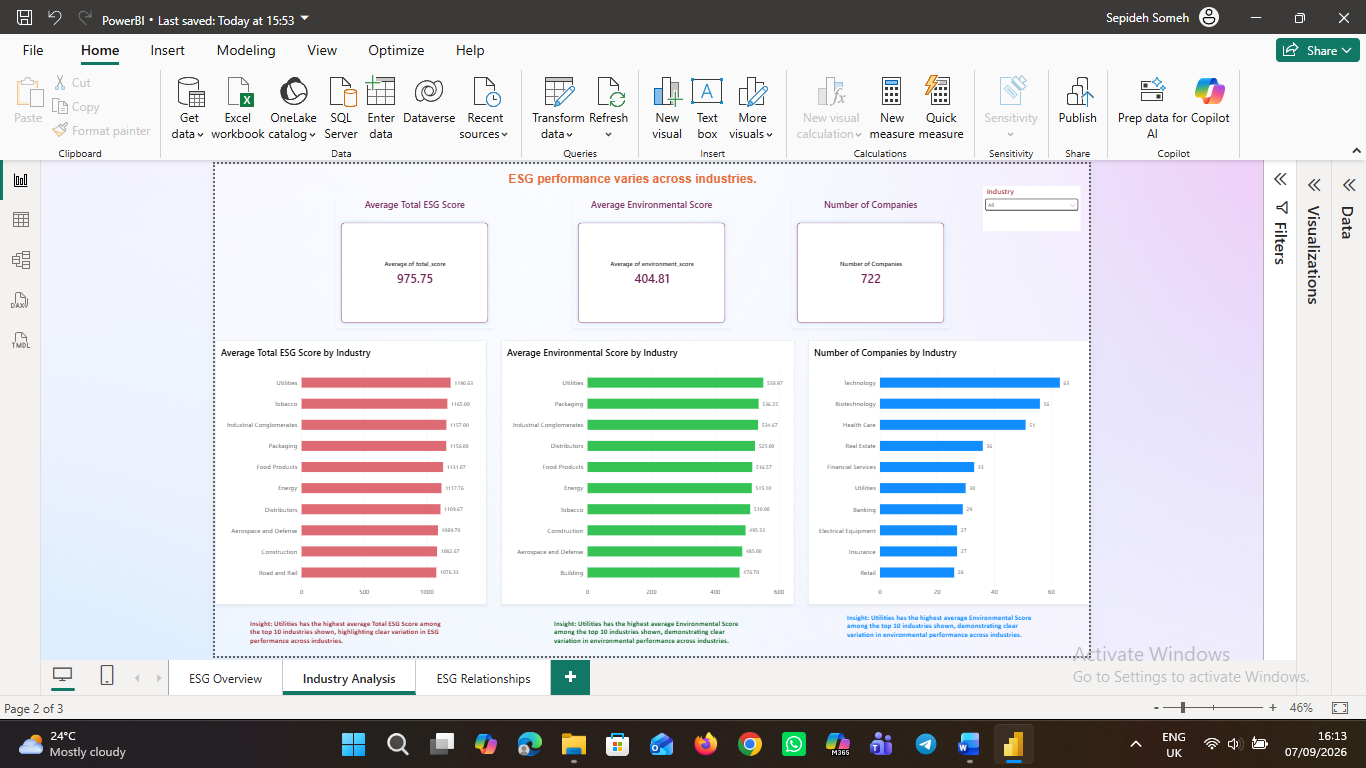

The dashboard page shown, as its layout file describes it:
{"tool":"powerbi","page":{"name":"Industry Analysis","canvas":[1920,1080],"ordinal":1},"visuals":[{"type":"textbox","box":[628.6,17.3,576.7,58.3],"z":0},{"type":"clusteredBarChart","title":"Average Total ESG Score by Industry","fields":{"Category":["esg_cleaned.industry"],"Y":["Avg(esg_cleaned.total_score)"]},"box":[0,386.6,596.2,581],"z":1},{"type":"textbox","box":[77.8,997.9,438.5,82.1],"z":2},{"type":"clusteredBarChart","title":"Average Environmental Score by Industry","fields":{"Category":["esg_cleaned.industry"],"Y":["Avg(esg_cleaned.environment_score)"]},"box":[628.6,386.6,643.7,581],"z":3},{"type":"textbox","box":[745.2,997.9,408.2,75.6],"z":4},{"type":"clusteredBarChart","title":"Number of Companies by Industry","fields":{"Category":["esg_cleaned.industry"],"Y":["Count(esg_cleaned.name)"]},"box":[1302.5,386.6,617.8,581],"z":5},{"type":"textbox","box":[1386.7,985,406.1,88.6],"z":6},{"type":"slicer","fields":{"Values":["esg_cleaned.industry"]},"box":[1684.8,47.5,213.8,99.4],"z":7},{"type":"cardVisual","title":"Average Total ESG Score","fields":{"Data":["Avg(esg_cleaned.total_score)"]},"box":[265.7,75.6,345.6,285.1],"z":8},{"type":"cardVisual","title":"Average Environmental Score","fields":{"Data":["Avg(esg_cleaned.environment_score)"]},"box":[786.2,75.6,345.6,285.1],"z":9},{"type":"cardVisual","title":"Number of Companies","fields":{"Data":["Count(esg_cleaned.name)"]},"box":[1265.8,75.6,345.6,285.1],"z":10}]}

Visuals, with their boxes on the page's 1920x1080 design canvas (x1, y1, x2, y2). These are canvas units, not pixel positions in the 1366x768 screenshot, which may show the page scaled, cropped or inside an application window:
textbox: bbox(629, 17, 1205, 76)
"Average Total ESG Score by Industry" clusteredBarChart: bbox(0, 387, 596, 968)
textbox: bbox(78, 998, 516, 1080)
"Average Environmental Score by Industry" clusteredBarChart: bbox(629, 387, 1272, 968)
textbox: bbox(745, 998, 1153, 1074)
"Number of Companies by Industry" clusteredBarChart: bbox(1302, 387, 1920, 968)
textbox: bbox(1387, 985, 1793, 1074)
slicer - esg_cleaned.industry: bbox(1685, 48, 1899, 147)
"Average Total ESG Score" cardVisual: bbox(266, 76, 611, 361)
"Average Environmental Score" cardVisual: bbox(786, 76, 1132, 361)
"Number of Companies" cardVisual: bbox(1266, 76, 1611, 361)
